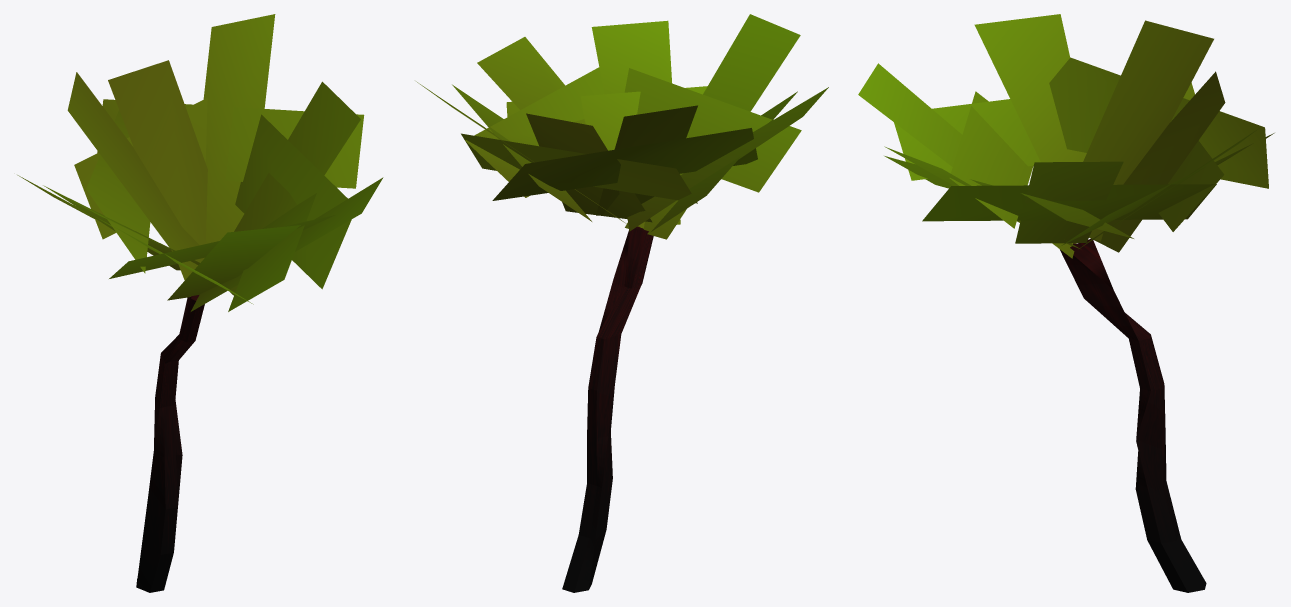
Rendered from jungle_palm_a1.glb.
3 views of the same model, side by side, from view 1: azimuth 30°, elevation 25°; view 2: azimuth 150°, elevation 25°; view 3: azimuth 270°, elevation 25° (orthographic). The views are drawn at different scales.
Parts seen in each view (by area): view 1: jungle_palm_a1; view 2: jungle_palm_a1; view 3: jungle_palm_a1.
Boxes of the visible parts, x1,y1,x2,y2 form: jungle_palm_a1: (17, 14, 383, 592); jungle_palm_a1: (416, 14, 828, 592); jungle_palm_a1: (858, 14, 1274, 592).
Bounding box in the file's own units: 3.85 × 5.53 × 4.05.
Materials: 2 (2 with a texture image).
